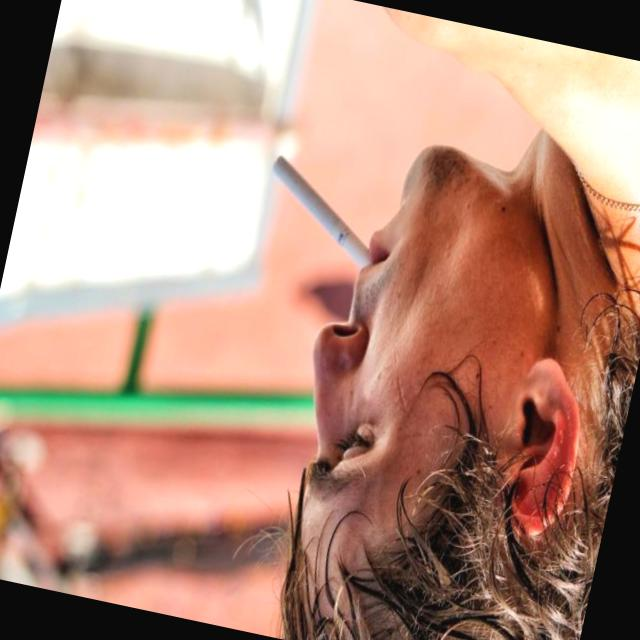cigarette: (252, 146, 386, 269)
